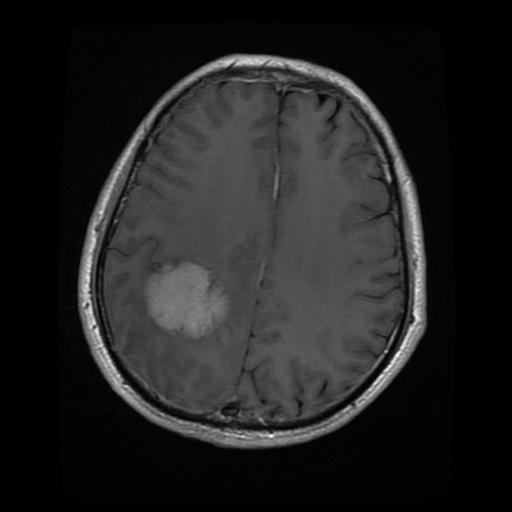Menigiomia_tumour: (150, 259, 227, 336)
